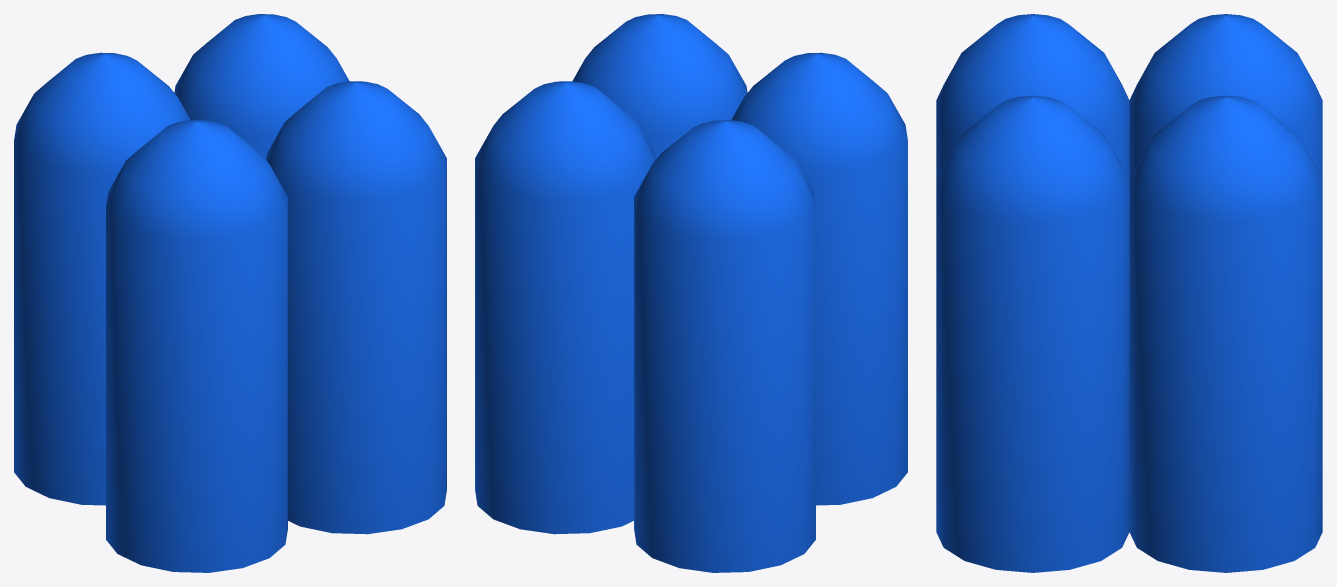
File: AmmoPickup.fbx
The picture shows the model from 3 angles, left to right: view 1: azimuth 30°, elevation 25°; view 2: azimuth 150°, elevation 25°; view 3: azimuth 270°, elevation 25°; orthographic projection. The views are drawn at different scales.
Visible parts, largest first — view 1: Cylinder.002; view 2: Cylinder.002; view 3: Cylinder.002.
Part boxes in pixels (left/top/right/bottom): Cylinder.002: left=14, top=14, right=446, bottom=572; Cylinder.002: left=475, top=14, right=907, bottom=572; Cylinder.002: left=936, top=14, right=1322, bottom=572.
Size of the model in its own units: 160 by 199 by 160.
